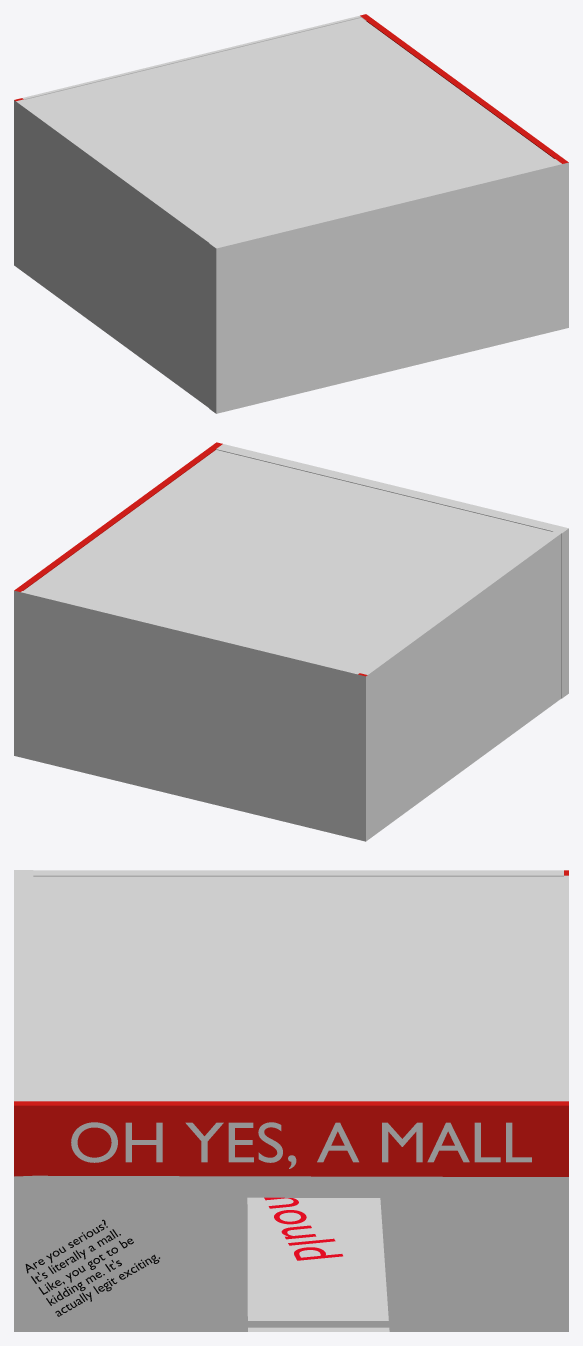
File: Creepy mall.fbx
3 renders of one model, top to bottom at view 1: azimuth 30°, elevation 25°; view 2: azimuth 150°, elevation 25°; view 3: azimuth 270°, elevation 25°, orthographic. The views are drawn at different scales.
Visible parts, largest first — view 1: Cube, Cube.002; view 2: Cube, Cube.002; view 3: Cube.002, Cube, Cube.001, Text, Text.001, Text.008.
Boxes of the visible parts, x1,y1,x2,y2 form: Cube: [14, 14, 568, 413]; Cube.002: [25, 17, 553, 240]; Cube: [14, 442, 568, 841]; Cube.002: [23, 450, 551, 672]; Cube.002: [33, 876, 563, 1101]; Cube: [14, 870, 568, 1331]; Cube.001: [247, 1197, 389, 1327]; Text: [71, 1122, 531, 1168]; Text.001: [25, 1219, 159, 1316]; Text.008: [264, 1197, 342, 1260].
Size of the model in its own units: 3920 by 1751 by 3891.
